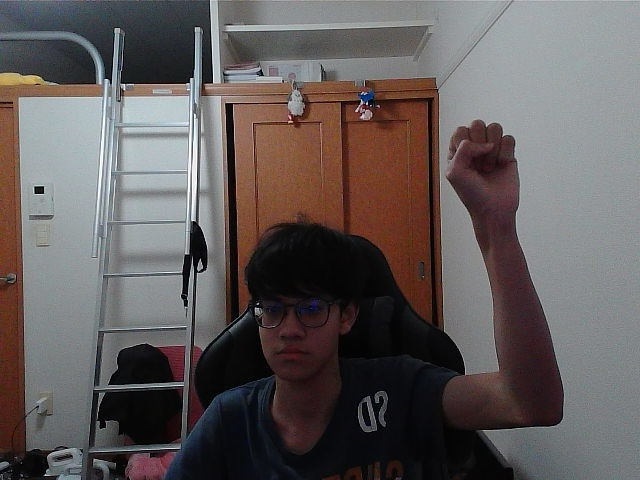closed_palm: (457, 125, 508, 209)
